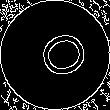O_W: (23, 25, 87, 85)
